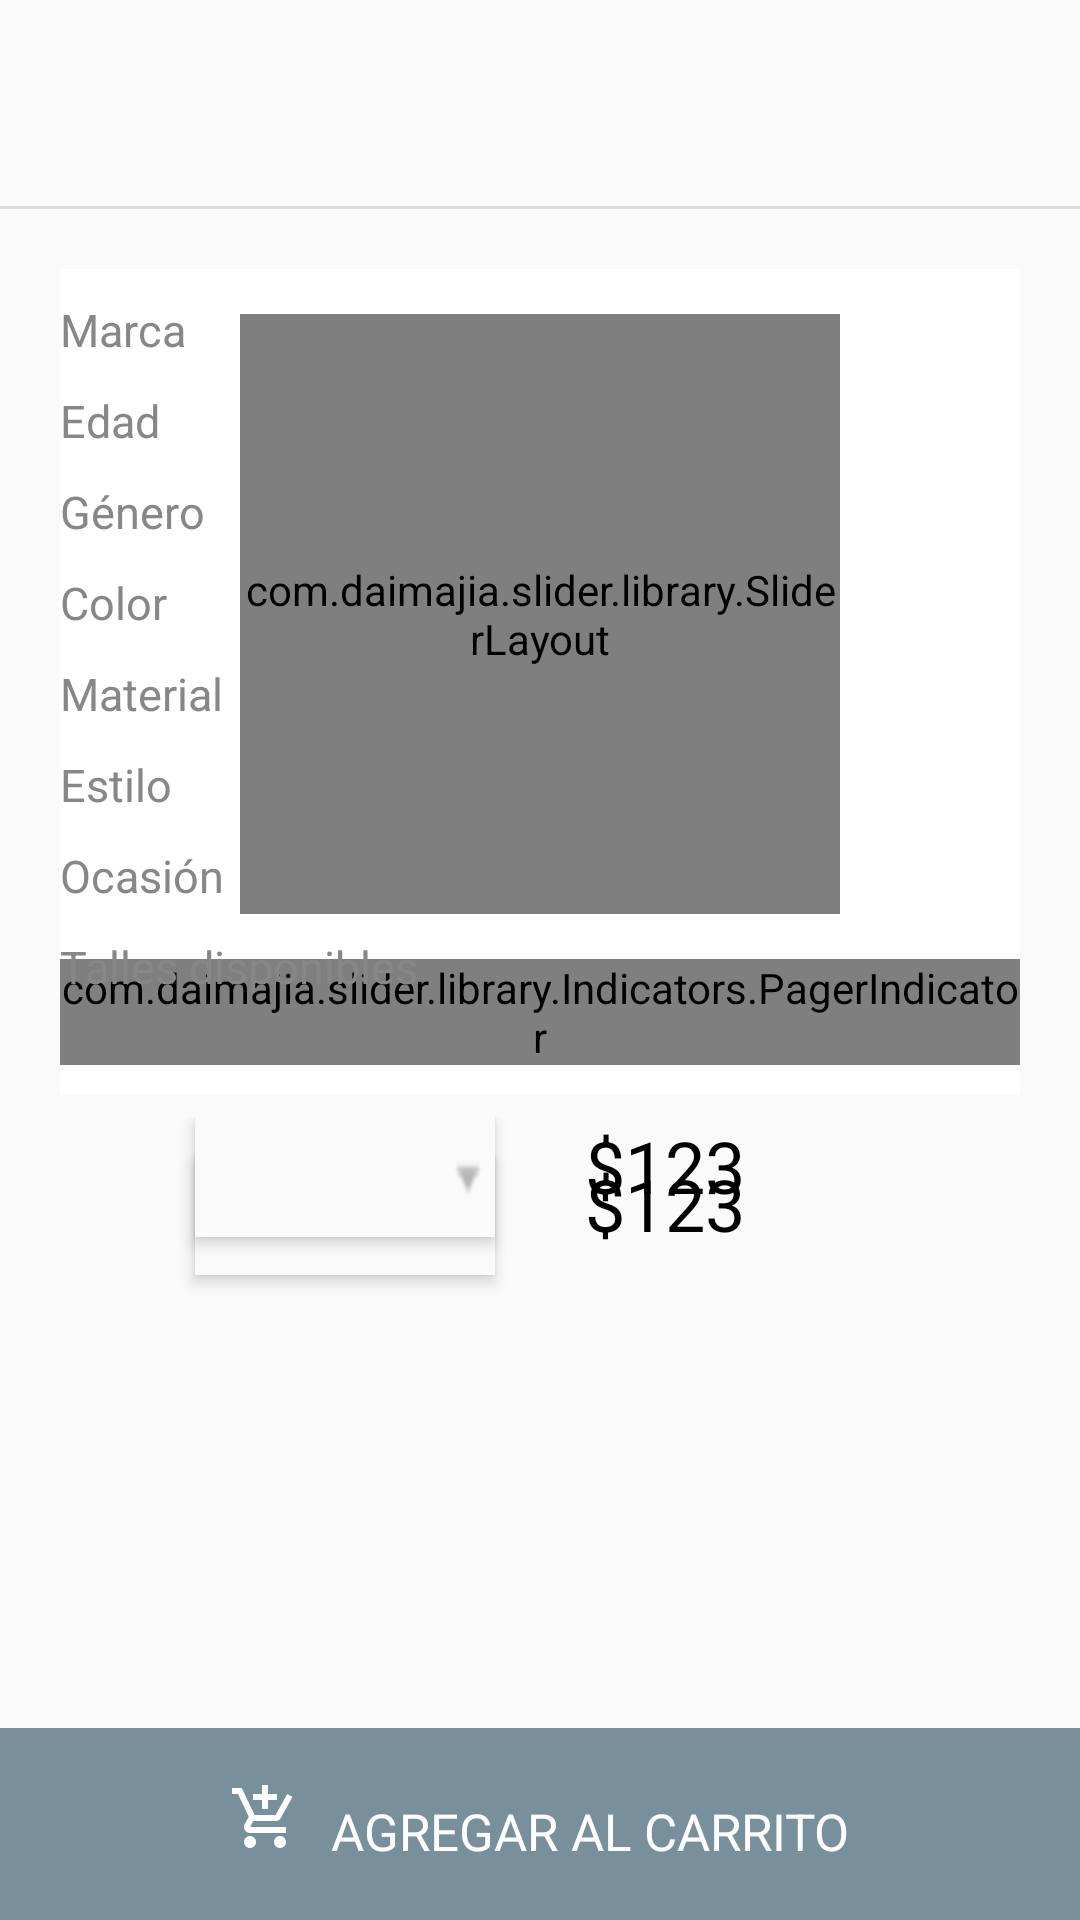

Named icons in this screenshot (1080×1920) and their centers, point (x, y):
add shopping cart: point (262, 1816)
